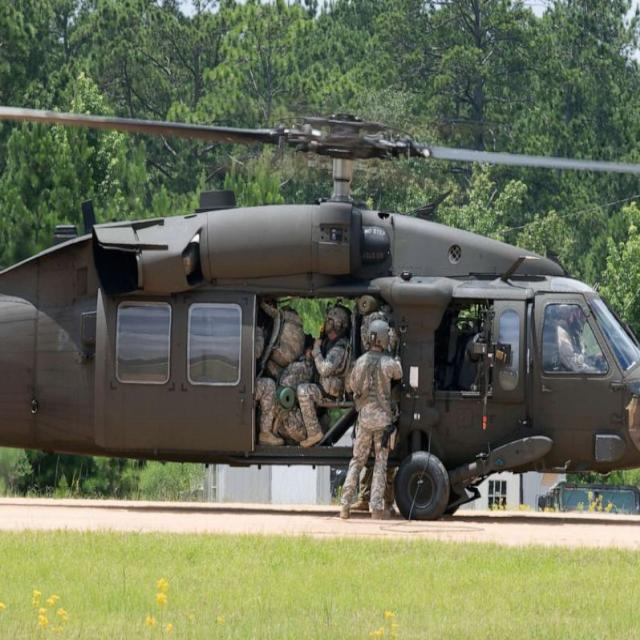helicopter: (1, 105, 640, 537)
